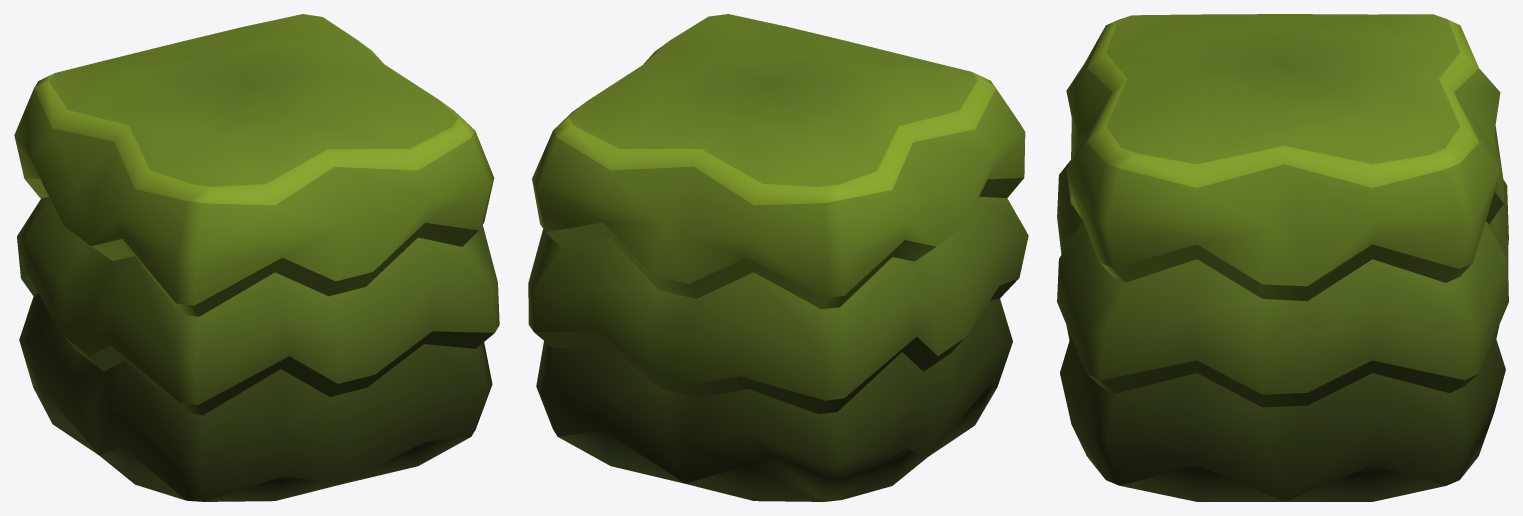
The model's file is bush_square_small_plain_LOD_group.fbx.
3 views of the same model, side by side, from view 1: azimuth 30°, elevation 25°; view 2: azimuth 150°, elevation 25°; view 3: azimuth 270°, elevation 25° (orthographic). The views are drawn at different scales.
Visible parts, largest first — view 1: bush_square_small_plain_LOD0; view 2: bush_square_small_plain_LOD0; view 3: bush_square_small_plain_LOD0.
Part boxes in pixels (<box>): bush_square_small_plain_LOD0: <box>14,14,499,501</box>; bush_square_small_plain_LOD0: <box>528,14,1028,501</box>; bush_square_small_plain_LOD0: <box>1057,14,1508,501</box>.
Size of what is drawn, in the model's own units: 129 by 118 by 129.
1 material, 1 textured.
